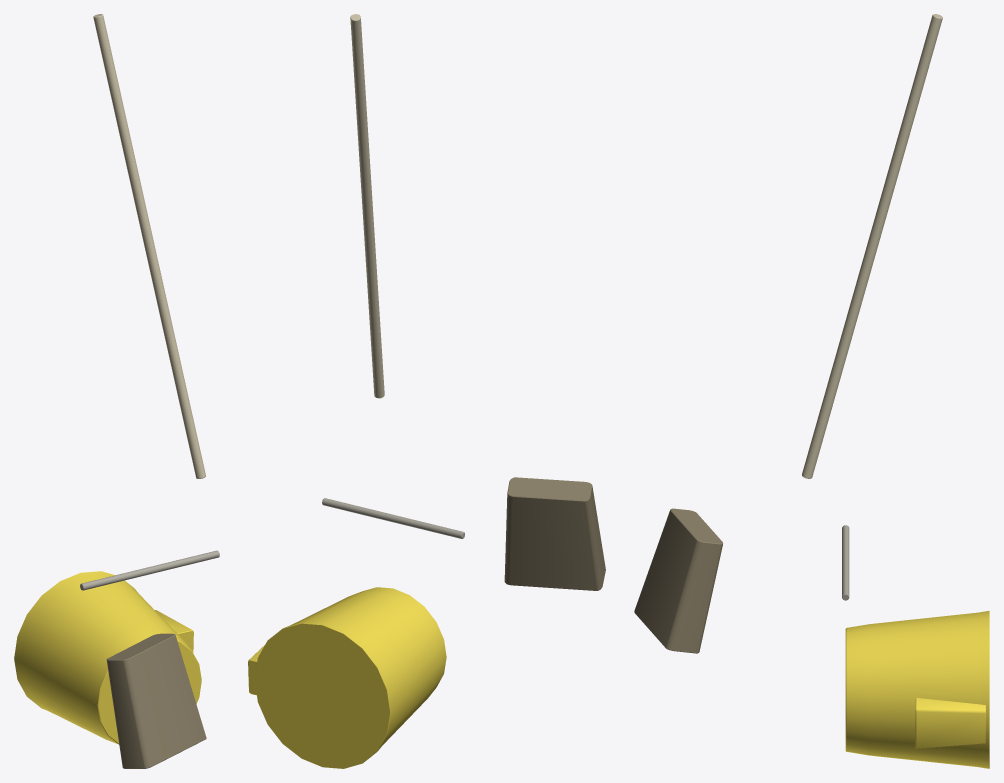
File: LV_mop_bucket.fbx
The picture shows the model from 3 angles, left to right: view 1: azimuth 30°, elevation 25°; view 2: azimuth 150°, elevation 25°; view 3: azimuth 270°, elevation 25°; orthographic projection. The views are drawn at different scales.
Visible parts, largest first — view 1: LV_mop_bucket; view 2: LV_mop_bucket; view 3: LV_mop_bucket.
Boxes of the visible parts, x1,y1,x2,y2 form: LV_mop_bucket: [14, 14, 219, 768]; LV_mop_bucket: [248, 14, 605, 768]; LV_mop_bucket: [634, 14, 989, 768].
Size of the model in its own units: 0.5989 by 2.11 by 0.9133.
